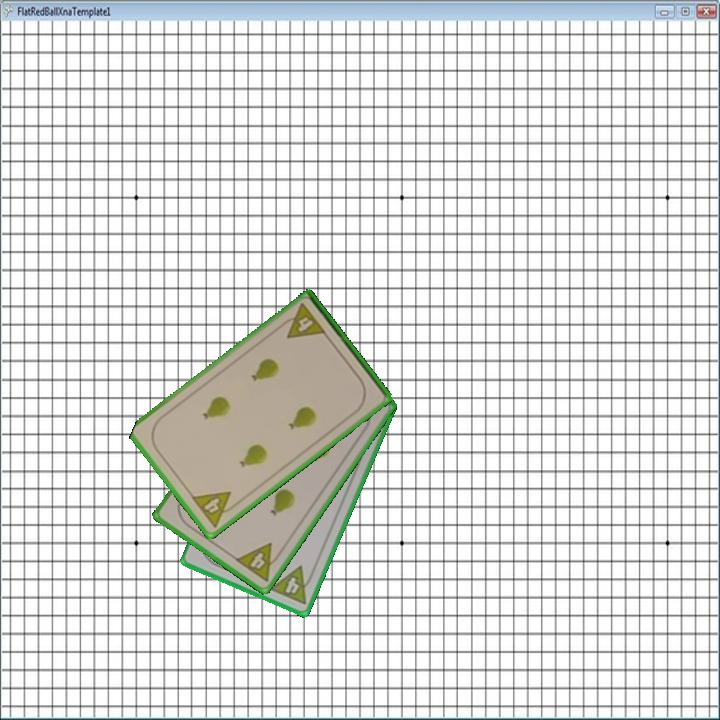4p: (232, 539, 286, 585), (266, 562, 318, 608), (188, 488, 242, 530), (276, 300, 329, 342)
